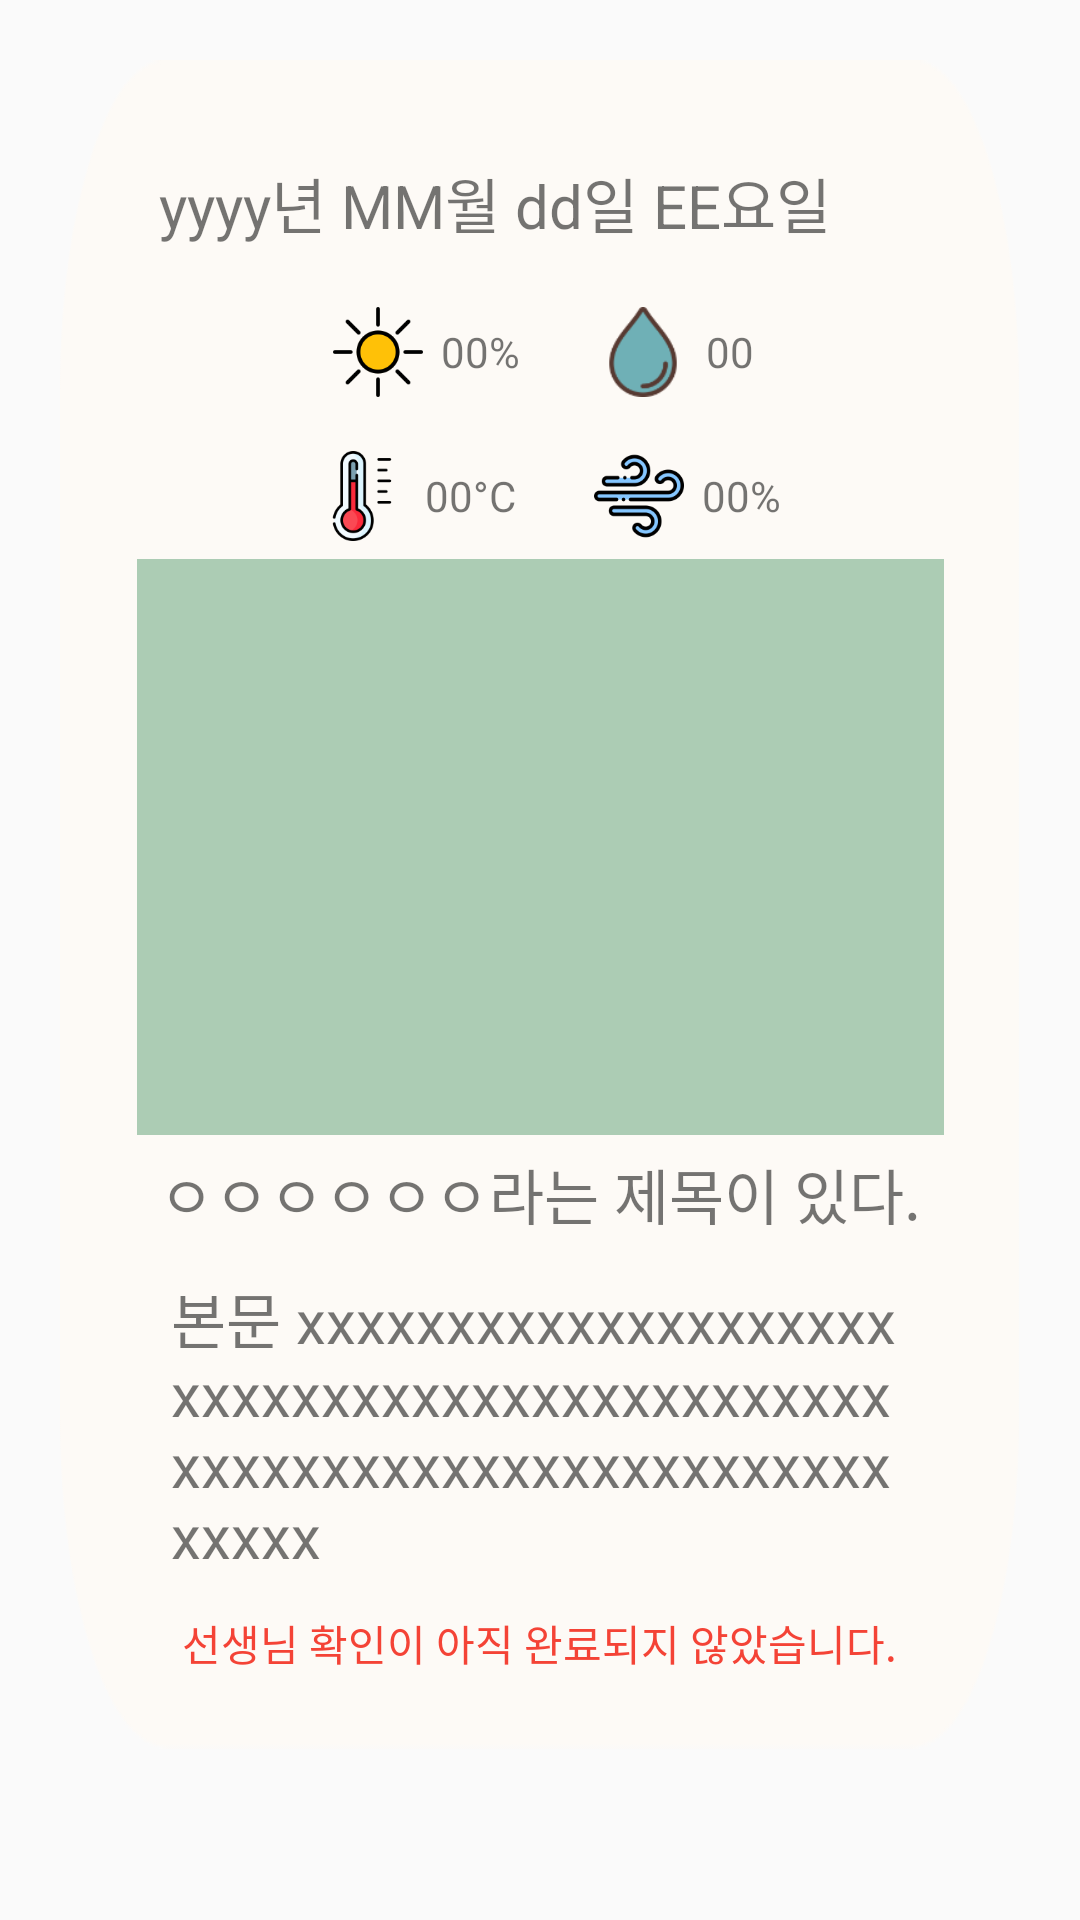

Where to tap for icons on this 1080×1920 app screen, as [x,y]:
drop: [643,352]
sun: [378,352]
thermometer: [362,496]
windy: [639,496]
